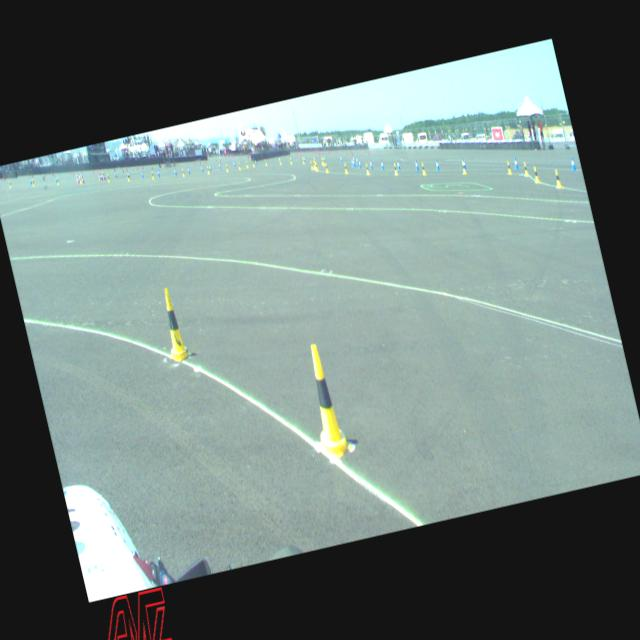blue_cone: (570, 157, 576, 170), (512, 157, 518, 169), (434, 160, 439, 170), (462, 158, 466, 170), (396, 159, 400, 170), (414, 160, 418, 170), (379, 160, 384, 168), (357, 158, 361, 168), (368, 159, 372, 168), (352, 158, 356, 166)
large_orange_cone: (74, 172, 80, 184), (96, 168, 102, 180), (100, 168, 106, 180), (79, 170, 84, 183)
yellow_cone: (297, 341, 354, 462), (154, 286, 191, 362), (552, 168, 562, 188), (532, 166, 539, 182), (522, 162, 529, 176), (505, 160, 512, 174), (420, 162, 426, 175), (392, 162, 398, 175), (461, 162, 466, 174), (343, 162, 348, 174), (364, 163, 369, 174), (314, 160, 318, 171), (324, 162, 328, 172), (310, 160, 314, 169), (150, 170, 154, 179), (126, 172, 130, 181), (106, 173, 110, 182), (181, 168, 185, 176), (78, 176, 82, 183), (56, 177, 60, 184), (312, 160, 315, 168)
